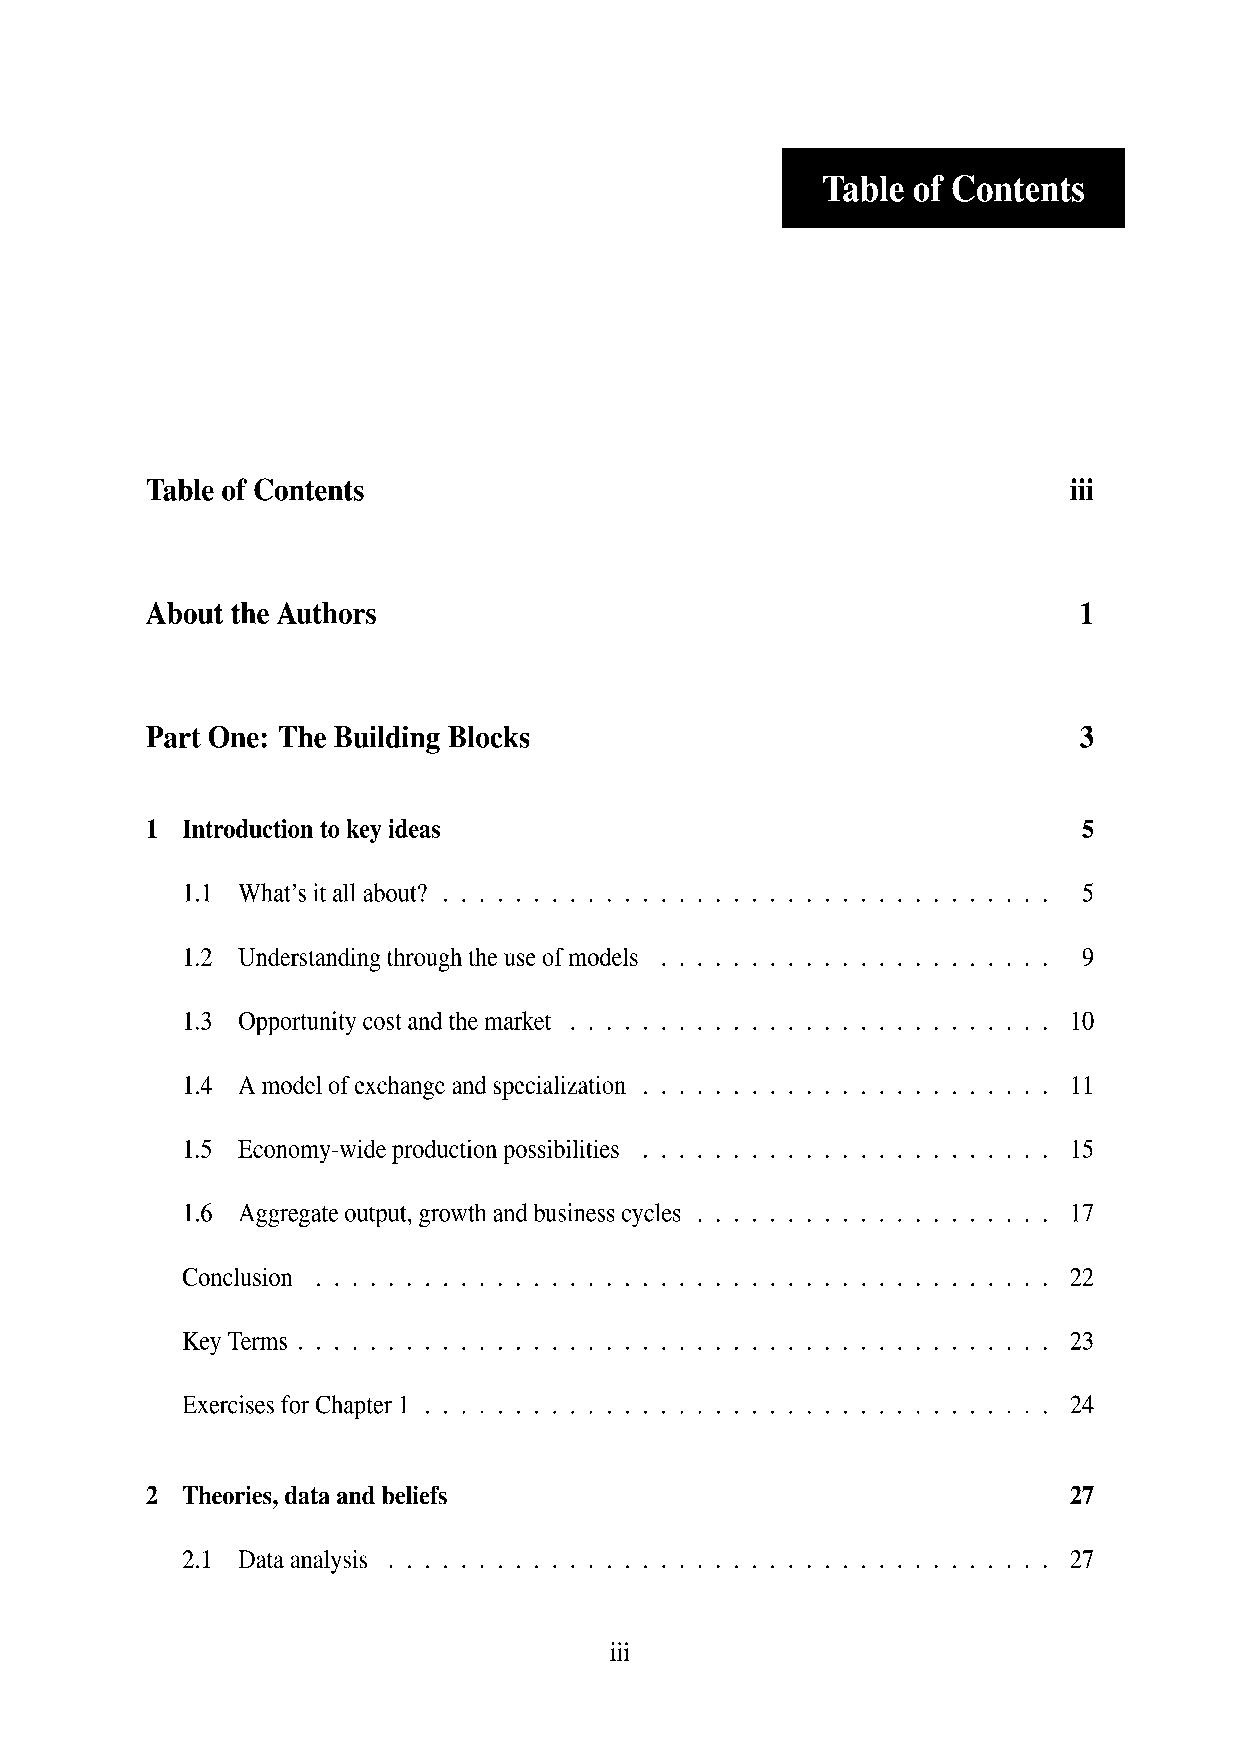TOC_chapter: (183, 1198, 683, 1228), (183, 1072, 628, 1102), (144, 721, 531, 754), (183, 1135, 620, 1165), (183, 943, 639, 972), (183, 1007, 553, 1036), (144, 813, 446, 847), (145, 595, 378, 631), (142, 1484, 450, 1510), (140, 474, 366, 507), (176, 878, 429, 905), (180, 1393, 409, 1418), (178, 1547, 370, 1576), (178, 1329, 290, 1355), (181, 1264, 295, 1290)
TOC_pagenumber: (1066, 474, 1099, 505), (1068, 1007, 1096, 1033), (1068, 1392, 1098, 1417), (1070, 1070, 1094, 1099), (1070, 1198, 1096, 1224), (1070, 1263, 1095, 1290), (1066, 1546, 1092, 1571), (1071, 1133, 1095, 1161), (1072, 599, 1096, 625), (1070, 1326, 1094, 1353), (1074, 722, 1096, 749), (1068, 1482, 1092, 1506), (1078, 945, 1095, 969), (1080, 882, 1098, 905), (1080, 817, 1095, 839)
chapter: (820, 166, 1103, 212)
